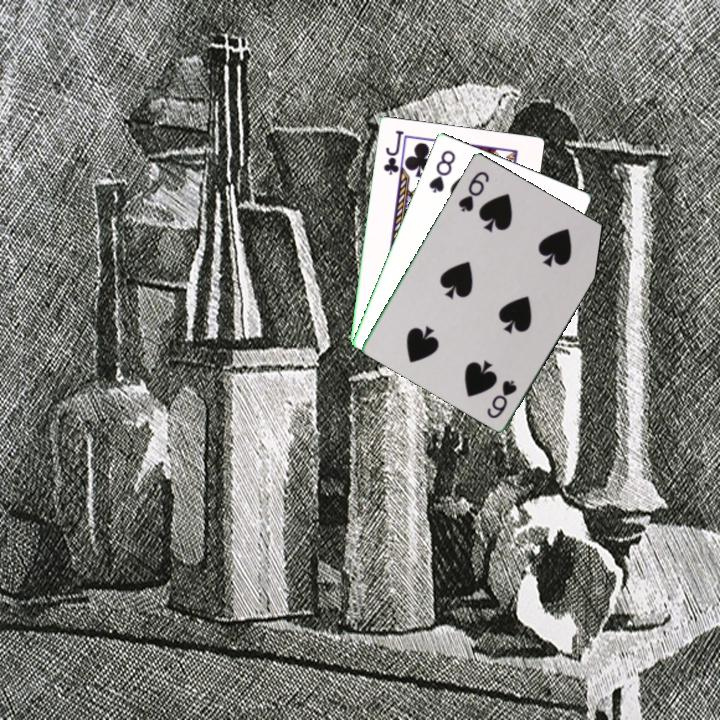6s: (454, 167, 492, 215), (483, 376, 520, 421)
8s: (425, 146, 458, 196)
Jc: (380, 126, 407, 181)
